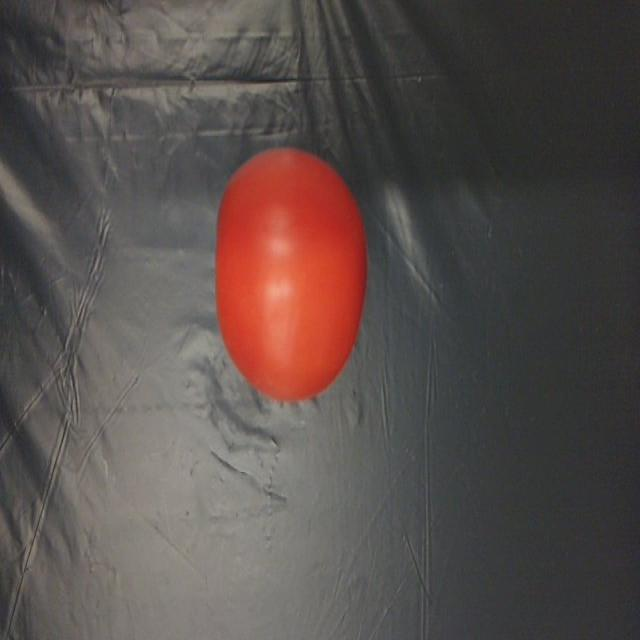kirmizi: (213, 149, 373, 396)
